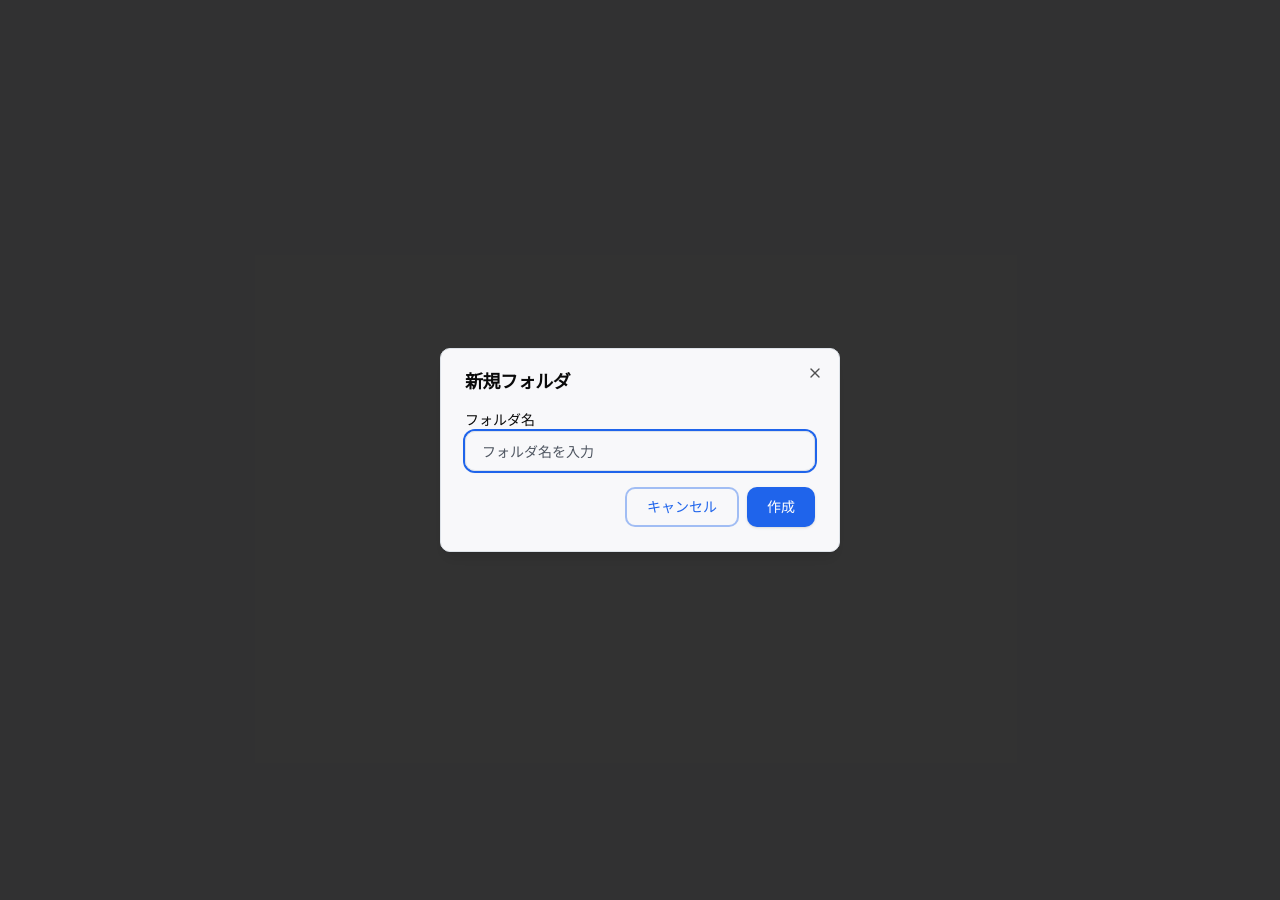
CreateFolderModal › バリデーション › 空の名前では作成できない
Click the button "作成".
click(781, 507)  # box [747,487,815,527]
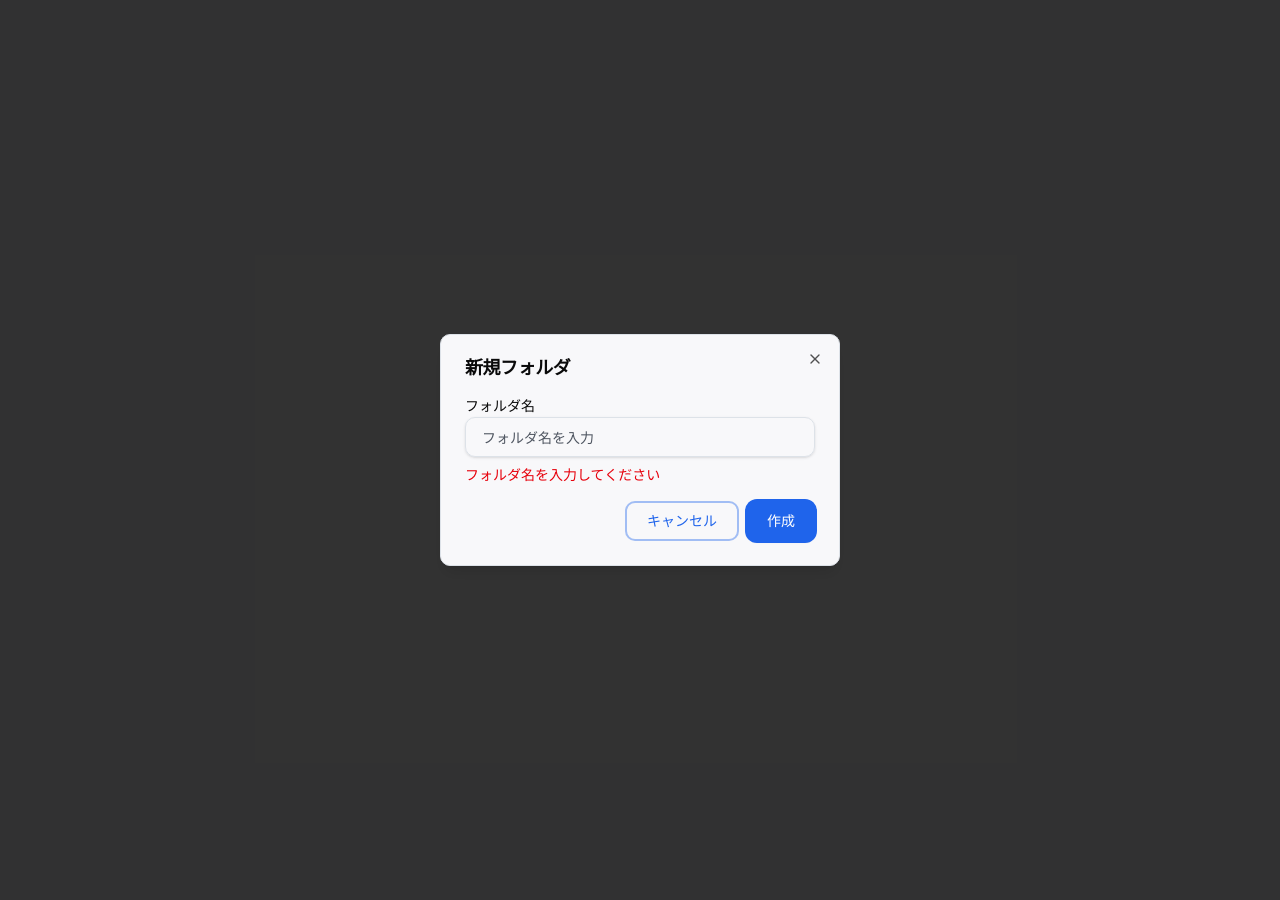
Check: the text "フォルダ名を入力してください" is shown, box [465,466,660,483]
